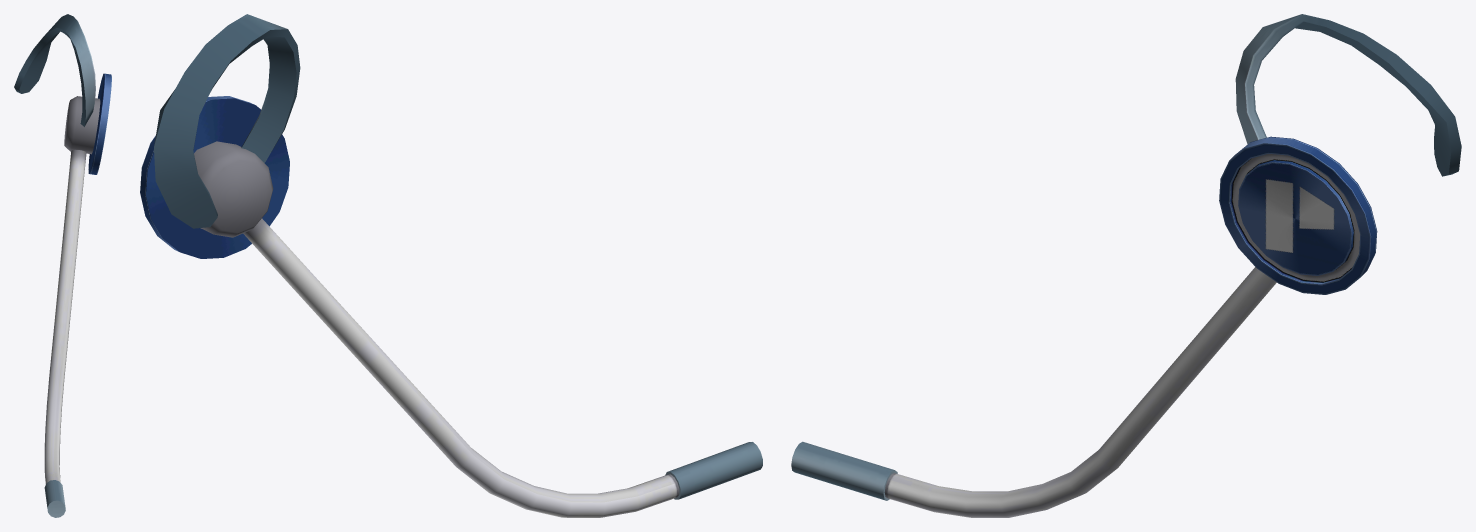
Rendered from EntrainingIntercomNazuna.fbx.
3 renders of one model, left to right at view 1: azimuth 30°, elevation 25°; view 2: azimuth 150°, elevation 25°; view 3: azimuth 270°, elevation 25°, orthographic. The views are drawn at different scales.
Parts seen in each view (by area): view 1: EntrainingIntercomNazuna; view 2: EntrainingIntercomNazuna; view 3: EntrainingIntercomNazuna.
Boxes of the visible parts, bbox=[...] form: EntrainingIntercomNazuna: bbox=[14, 14, 111, 517]; EntrainingIntercomNazuna: bbox=[140, 14, 762, 517]; EntrainingIntercomNazuna: bbox=[791, 14, 1461, 517].
Size of the model in its own units: 0.0553 by 0.0842 by 0.0842.
Materials: 1 (1 with a texture image).
